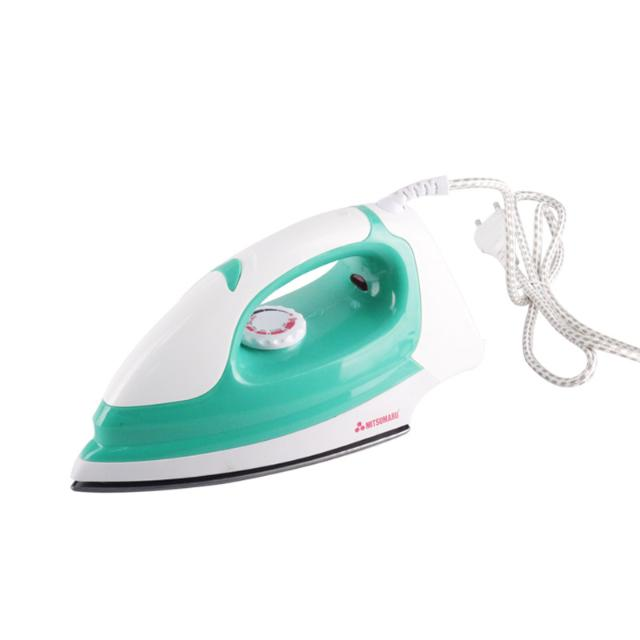Clothes-Iron: (59, 197, 490, 498)
